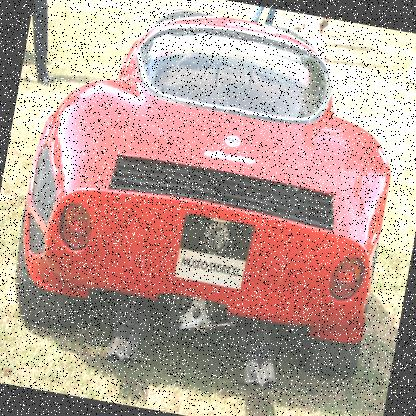Car: (2, 0, 413, 403)
